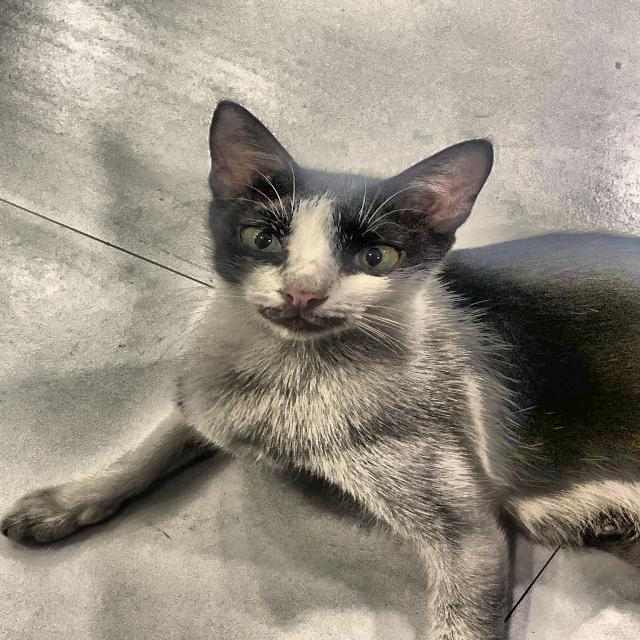Healthy skin: (211, 105, 508, 369)
